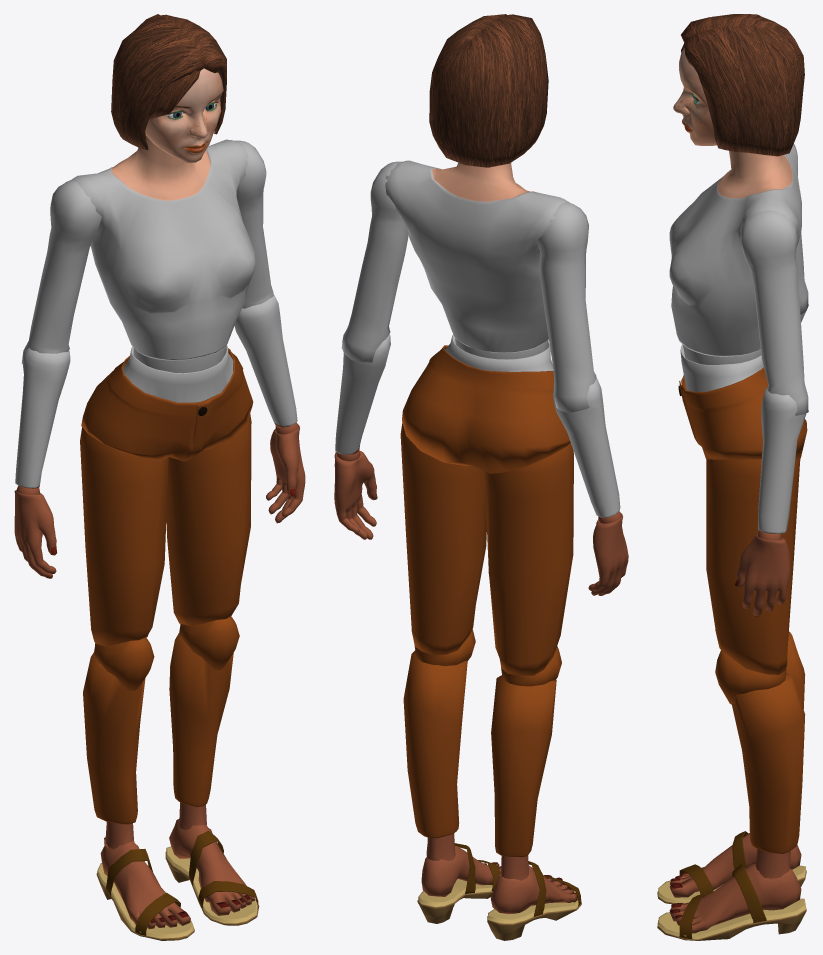
File: mannequinBrunette.obj
3 renders of one model, left to right at view 1: azimuth 30°, elevation 25°; view 2: azimuth 150°, elevation 25°; view 3: azimuth 270°, elevation 25°, orthographic.
Parts seen in each view (by area): view 1: sweethome3d_mannequin_chest, sweethome3d_mannequin_right_thigh, sweethome3d_mannequin_left_thigh, sweethome3d_mannequin_head, sweethome3d_mannequin_pelvis, sweethome3d_mannequin_right_leg, sweethome3d_mannequin_left_leg, sweethome3d_mannequin_right_arm, sweethome3d_mannequin_right_foot, sweethome3d_mannequin_left_foot, sweethome3d_mannequin_right_forearm, sweethome3d_mannequin_left_forearm (+6 smaller); view 2: sweethome3d_mannequin_chest, sweethome3d_mannequin_right_thigh, sweethome3d_mannequin_pelvis, sweethome3d_mannequin_head, sweethome3d_mannequin_left_thigh, sweethome3d_mannequin_left_leg, sweethome3d_mannequin_right_leg, sweethome3d_mannequin_right_arm, sweethome3d_mannequin_left_arm, sweethome3d_mannequin_right_foot, sweethome3d_mannequin_right_forearm, sweethome3d_mannequin_left_foot (+6 smaller); view 3: sweethome3d_mannequin_chest, sweethome3d_mannequin_head, sweethome3d_mannequin_left_thigh, sweethome3d_mannequin_left_leg, sweethome3d_mannequin_left_arm, sweethome3d_mannequin_pelvis, sweethome3d_mannequin_left_foot, sweethome3d_mannequin_left_forearm, sweethome3d_mannequin_right_foot, sweethome3d_mannequin_left_hand, sweethome3d_mannequin_left_knee, sweethome3d_mannequin_right_leg (+2 smaller).
Part boxes in pixels (bbox=[...]): sweethome3d_mannequin_chest: bbox=[65, 135, 255, 360]; sweethome3d_mannequin_right_thigh: bbox=[80, 427, 168, 646]; sweethome3d_mannequin_left_thigh: bbox=[166, 413, 251, 626]; sweethome3d_mannequin_head: bbox=[111, 14, 226, 162]; sweethome3d_mannequin_pelvis: bbox=[81, 345, 253, 461]; sweethome3d_mannequin_right_leg: bbox=[83, 652, 145, 849]; sweethome3d_mannequin_left_leg: bbox=[169, 633, 233, 829]; sweethome3d_mannequin_right_arm: bbox=[21, 180, 101, 363]; sweethome3d_mannequin_right_foot: bbox=[96, 837, 194, 940]; sweethome3d_mannequin_left_foot: bbox=[165, 819, 259, 925]; sweethome3d_mannequin_right_forearm: bbox=[15, 347, 70, 488]; sweethome3d_mannequin_left_forearm: bbox=[234, 294, 297, 427]; sweethome3d_mannequin_chest: bbox=[385, 160, 568, 352]; sweethome3d_mannequin_right_thigh: bbox=[484, 443, 573, 675]; sweethome3d_mannequin_pelvis: bbox=[402, 334, 570, 473]; sweethome3d_mannequin_head: bbox=[429, 14, 548, 167]; sweethome3d_mannequin_left_thigh: bbox=[400, 423, 486, 655]; sweethome3d_mannequin_left_leg: bbox=[403, 650, 467, 861]; sweethome3d_mannequin_right_leg: bbox=[491, 675, 556, 880]; sweethome3d_mannequin_right_arm: bbox=[537, 202, 596, 413]; sweethome3d_mannequin_left_arm: bbox=[341, 161, 408, 362]; sweethome3d_mannequin_right_foot: bbox=[487, 861, 581, 940]; sweethome3d_mannequin_right_forearm: bbox=[553, 378, 620, 517]; sweethome3d_mannequin_left_foot: bbox=[417, 843, 500, 923]; sweethome3d_mannequin_chest: bbox=[669, 144, 801, 356]; sweethome3d_mannequin_head: bbox=[673, 14, 804, 156]; sweethome3d_mannequin_left_thigh: bbox=[706, 458, 800, 674]; sweethome3d_mannequin_left_leg: bbox=[732, 673, 805, 878]; sweethome3d_mannequin_left_arm: bbox=[740, 210, 808, 415]; sweethome3d_mannequin_pelvis: bbox=[678, 344, 807, 459]; sweethome3d_mannequin_left_foot: bbox=[657, 863, 806, 940]; sweethome3d_mannequin_left_forearm: bbox=[758, 387, 806, 534]; sweethome3d_mannequin_right_foot: bbox=[657, 831, 806, 904]; sweethome3d_mannequin_left_hand: bbox=[735, 534, 790, 616]; sweethome3d_mannequin_left_knee: bbox=[715, 650, 786, 704]; sweethome3d_mannequin_right_leg: bbox=[786, 631, 805, 709].
Bounding box in the file's own units: 60.17 × 180 × 27.57.
